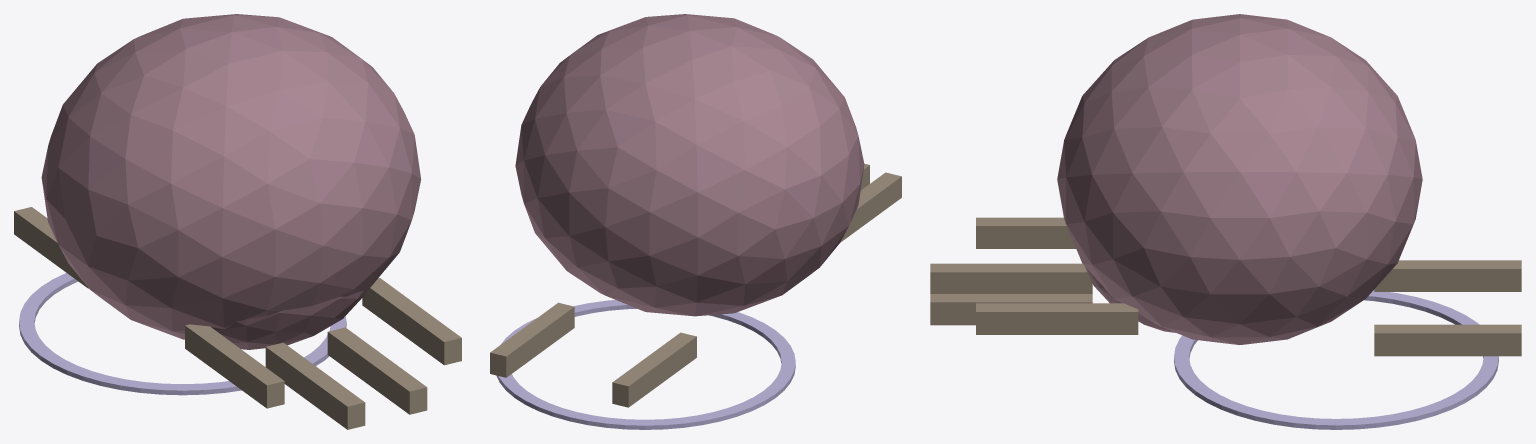
File: zglengo_overlord.glb
3 views of the same model, side by side, from view 1: azimuth 30°, elevation 25°; view 2: azimuth 150°, elevation 25°; view 3: azimuth 270°, elevation 25° (orthographic). The views are drawn at different scales.
Parts seen in each view (by area): view 1: main_sac, hover_ring, belly, tendril_2, tendril_1, tendril_0, tendril_3, tendril_4; view 2: main_sac, hover_ring, tendril_4, tendril_5, tendril_0; view 3: main_sac, hover_ring, tendril_3, tendril_1, tendril_5, tendril_4, tendril_0, tendril_2.
Part boxes in pixels (<box>): main_sac: <box>41,14,421,339</box>; hover_ring: <box>19,273,346,395</box>; belly: <box>211,291,366,349</box>; tendril_2: <box>327,327,427,414</box>; tendril_1: <box>265,342,365,429</box>; tendril_0: <box>185,324,284,408</box>; tendril_3: <box>362,278,461,365</box>; tendril_4: <box>14,207,88,288</box>; main_sac: <box>515,14,864,316</box>; hover_ring: <box>496,300,795,429</box>; tendril_4: <box>612,332,696,407</box>; tendril_5: <box>490,302,574,377</box>; tendril_0: <box>840,172,901,242</box>; main_sac: <box>1057,14,1422,344</box>; hover_ring: <box>1174,290,1498,429</box>; tendril_3: <box>976,303,1138,334</box>; tendril_1: <box>930,263,1092,293</box>; tendril_5: <box>1374,324,1521,356</box>; tendril_4: <box>1374,260,1521,291</box>; tendril_0: <box>976,217,1075,248</box>; tendril_2: <box>930,294,1092,325</box>.
Size of the model in its own units: 1.5 by 1.42 by 2.33.
